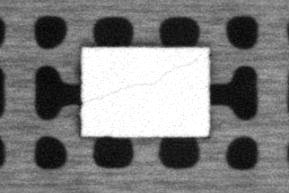DIE_CRACK: (86, 52, 203, 100)
